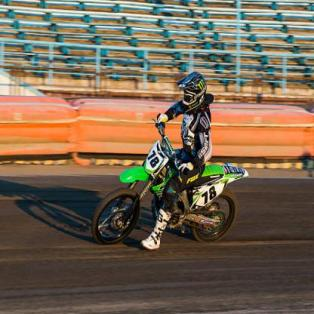Motocicleta: (92, 125, 248, 248)
